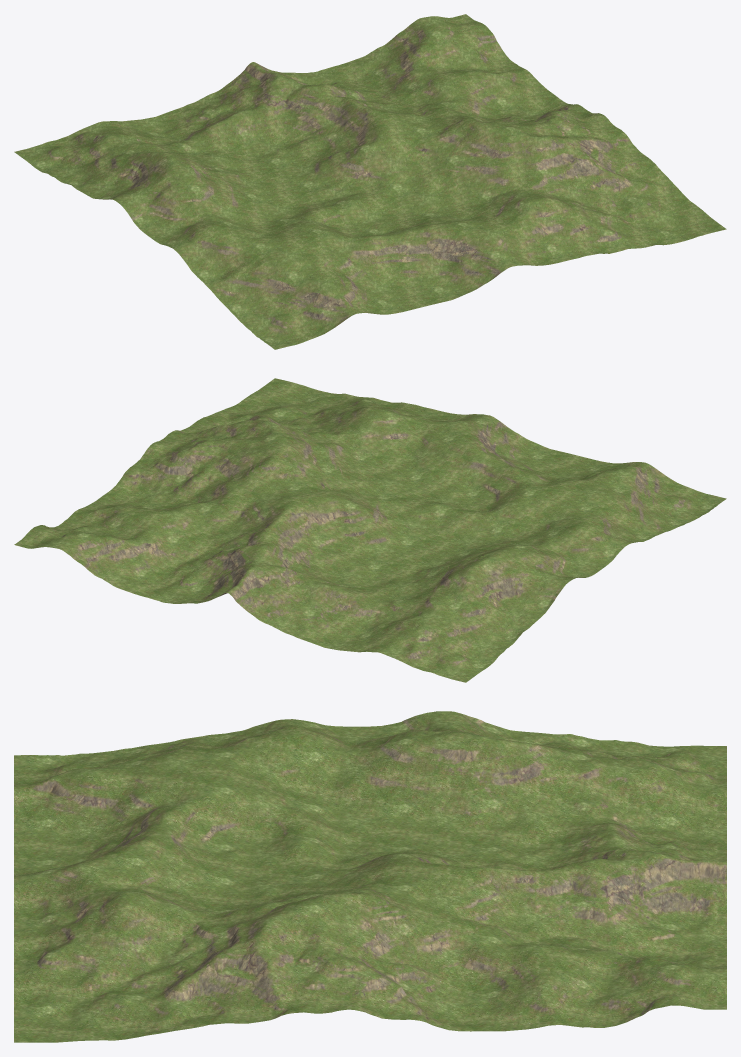
File: forest.glb
3 renders of one model, top to bottom at view 1: azimuth 30°, elevation 25°; view 2: azimuth 150°, elevation 25°; view 3: azimuth 270°, elevation 25°, orthographic. The views are drawn at different scales.
Visible parts, largest first — view 1: terrain_o; view 2: terrain_o; view 3: terrain_o.
Part boxes in pixels (box(x1,y1,x2,y2)): terrain_o: box(14, 14, 726, 349); terrain_o: box(14, 378, 726, 682); terrain_o: box(14, 711, 726, 1042).
Size of the model in its own units: 7.55 by 0.94 by 7.55.
Materials: 1 (1 with a texture image).
